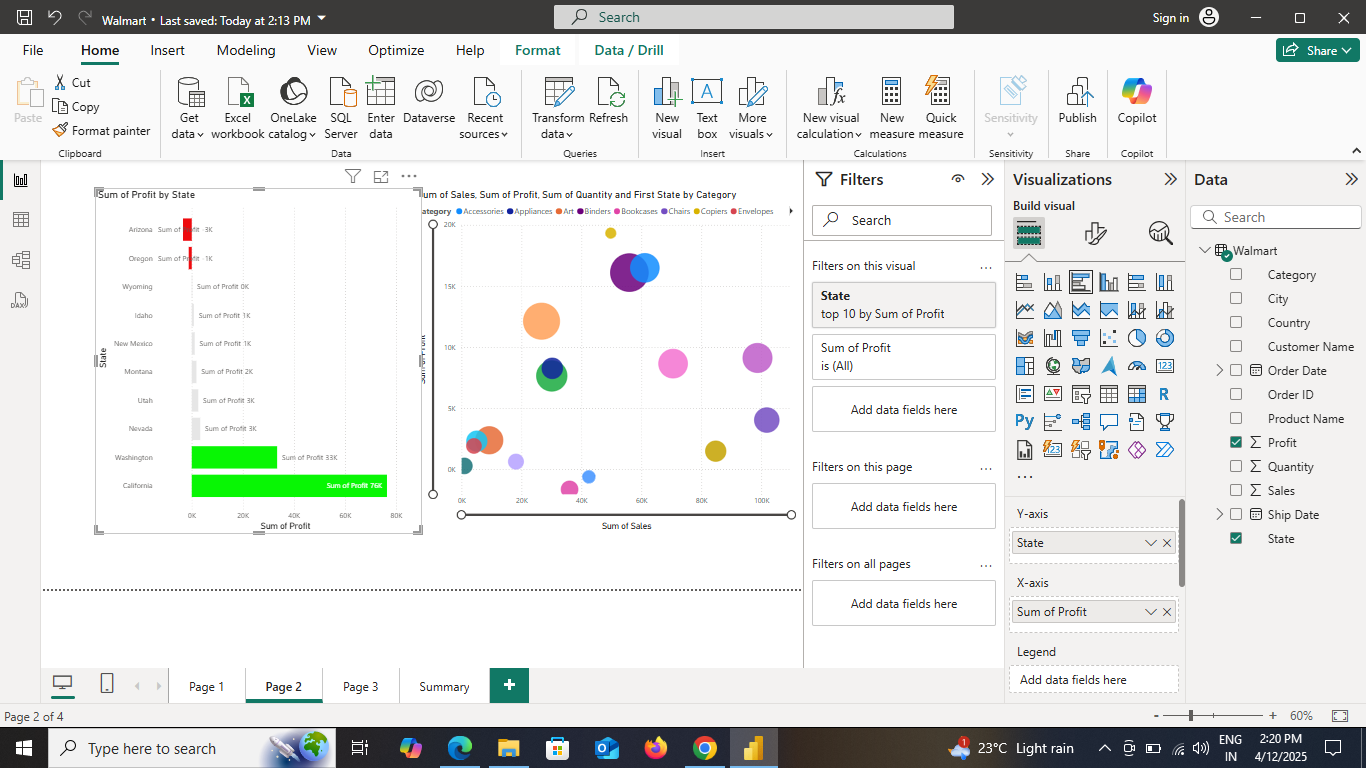

The page's visual inventory and layout, read from the dashboard file:
{"tool":"powerbi","page":{"name":"Page 2","canvas":[1280,720],"ordinal":1},"visuals":[{"type":"clusteredBarChart","fields":{"Category":["Walmart.State"],"Y":["Sum(Walmart.Profit)"]},"box":[90.7,47,549.3,581.2],"z":0},{"type":"scatterChart","fields":{"X":["Sum(Walmart.Sales)"],"Y":["Sum(Walmart.Profit)"],"Series":["Walmart.Category"],"Size":["Sum(Walmart.Quantity)"]},"box":[626.6,47,653.4,581.2],"z":1000}]}

Visuals, with their boxes on the page's 1280x720 design canvas (x1, y1, x2, y2). These are canvas units, not pixel positions in the 1366x768 screenshot, which may show the page scaled, cropped or inside an application window:
clusteredBarChart - Walmart.State x Sum(Walmart.Profit): [x1=91, y1=47, x2=640, y2=628]
scatterChart - Sum(Walmart.Sales) x Sum(Walmart.Profit): [x1=627, y1=47, x2=1280, y2=628]
